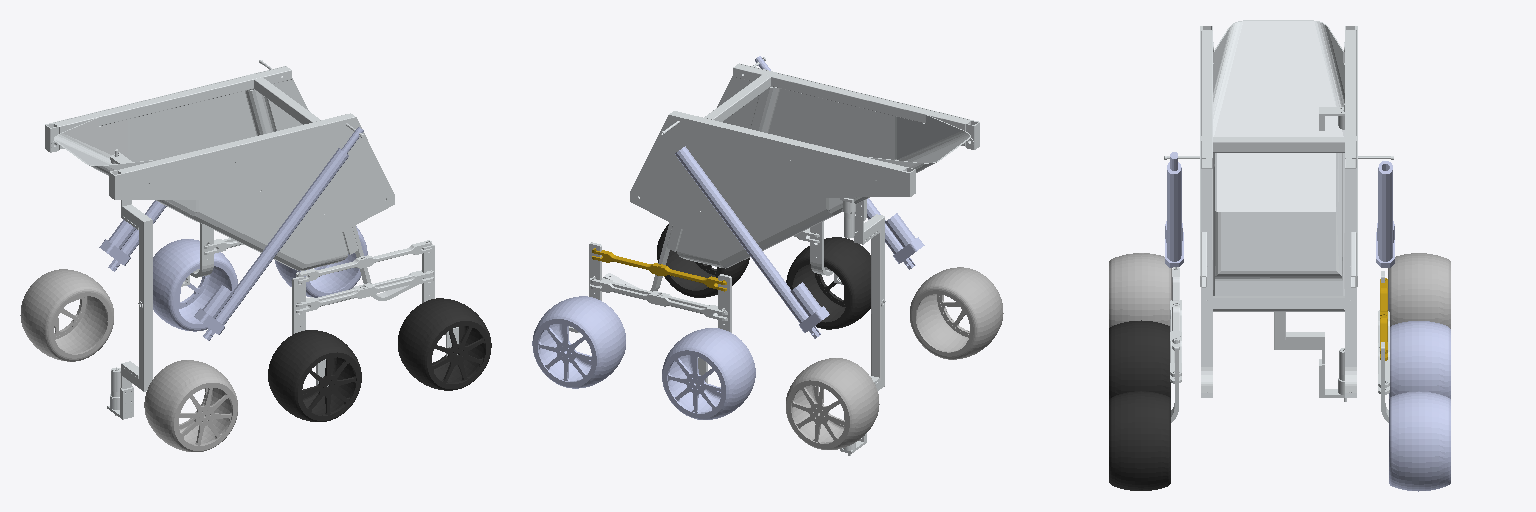
--- What the picture shows (computed from the rendered views, not written in the file) ---
3 views of the same robot in one strip: view 1: azimuth 30°, elevation 25°; view 2: azimuth 150°, elevation 25°; view 3: azimuth 270°, elevation 25° (orthographic).
Robot: surus_sim — 21 links, 20 joints (18 continuous, 2 prismatic); root link base_link; default pose: all joints at 0.
Visible links, largest first — view 1: Upper_link, br_wheel_link, bl_wheel_link, right_middle_wheel_link, right_front_wheel_link, left_mid_wheel_link, rear_rocker_link, right_bot_actuator_link, left_front_wheel_link, right_bot_link, left_bot_actuator_link, right_top_link (+3 smaller); view 2: Upper_link, left_front_wheel_link, br_wheel_link, left_mid_wheel_link, bl_wheel_link, right_middle_wheel_link, left_bot_actuator_link, rear_rocker_link, right_front_wheel_link, left_bot_link, right_bot_actuator_link, left_top_link (+3 smaller); view 3: Upper_link, right_front_wheel_link, left_front_wheel_link, left_mid_wheel_link, right_middle_wheel_link, bl_wheel_link, br_wheel_link, rear_rocker_link, left_bot_actuator_link, right_bot_actuator_link, right_top_link, left_top_link.
Boxes of the visible links, x1=… form: Upper_link: x1=45, y1=60, x2=416, y2=300; br_wheel_link: x1=144, y1=360, x2=237, y2=451; bl_wheel_link: x1=20, y1=269, x2=113, y2=361; right_middle_wheel_link: x1=268, y1=330, x2=361, y2=421; right_front_wheel_link: x1=398, y1=298, x2=491, y2=390; left_mid_wheel_link: x1=153, y1=239, x2=237, y2=331; rear_rocker_link: x1=107, y1=149, x2=152, y2=419; right_bot_actuator_link: x1=194, y1=148, x2=348, y2=340; left_front_wheel_link: x1=275, y1=226, x2=367, y2=297; right_bot_link: x1=296, y1=270, x2=433, y2=312; left_bot_actuator_link: x1=99, y1=200, x2=166, y2=271; right_top_link: x1=296, y1=240, x2=431, y2=283; Upper_link: x1=603, y1=57, x2=979, y2=291; left_front_wheel_link: x1=532, y1=296, x2=625, y2=388; br_wheel_link: x1=910, y1=267, x2=1003, y2=359; left_mid_wheel_link: x1=662, y1=328, x2=755, y2=419; bl_wheel_link: x1=786, y1=358, x2=879, y2=449; right_middle_wheel_link: x1=786, y1=237, x2=870, y2=329; left_bot_actuator_link: x1=675, y1=146, x2=829, y2=338; rear_rocker_link: x1=840, y1=198, x2=885, y2=455; right_front_wheel_link: x1=657, y1=224, x2=749, y2=297; left_bot_link: x1=590, y1=277, x2=727, y2=320; right_bot_actuator_link: x1=867, y1=198, x2=924, y2=269; left_top_link: x1=592, y1=248, x2=726, y2=291; Upper_link: x1=1164, y1=20, x2=1393, y2=397; right_front_wheel_link: x1=1109, y1=391, x2=1170, y2=490; left_front_wheel_link: x1=1389, y1=391, x2=1450, y2=491; left_mid_wheel_link: x1=1389, y1=321, x2=1450, y2=398; right_middle_wheel_link: x1=1109, y1=320, x2=1170, y2=398; bl_wheel_link: x1=1388, y1=253, x2=1450, y2=328; br_wheel_link: x1=1109, y1=253, x2=1171, y2=327; rear_rocker_link: x1=1274, y1=104, x2=1346, y2=401; left_bot_actuator_link: x1=1376, y1=161, x2=1394, y2=267; right_bot_actuator_link: x1=1165, y1=162, x2=1183, y2=267; right_top_link: x1=1172, y1=267, x2=1179, y2=350; left_top_link: x1=1380, y1=278, x2=1387, y2=360.
Size in the robot's own frame: 0.9663 by 0.728 by 0.7973 metres.
Meshes: 21 distinct files referenced, 19 mesh visuals loaded (19 binary STL); not drawn: 2 (reference not matched to a file when rendering).

robot.urdf — surus_sim:
<?xml version="1.0"?>
<robot
  name="surus_sim">
  <link
    name="base_link">
    <inertial>
      <origin
        xyz="-0.167968408500371 -1.01022281727703E-05 0.286322180976302"
        rpy="0 0 0" />
      <mass
        value="4.66238075193942" />
      <inertia
        ixx="0.231100945265056"
        ixy="5.93061079906879E-07"
        ixz="-0.0455736904611633"
        iyy="0.237209604995113"
        iyz="-3.48066671364885E-07"
        izz="0.292610789105543" />
    </inertial>
    <visual>
      <origin
        xyz="0 0 0"
        rpy="0 0 0" />
      <geometry>
        <mesh
          filename="package://rmc_simulation/surus_sim/meshes/base_link.STL" />
      </geometry>
      <material
        name="">
        <color
          rgba="0.898039215686275 0.917647058823529 0.929411764705882 1" />
      </material>
    </visual>
    <collision>
      <origin
        xyz="0 0 0"
        rpy="0 0 0" />
      <geometry>
        <mesh
          filename="package://rmc_simulation/surus_sim/meshes/base_link.STL" />
      </geometry>
    </collision>
  </link>

  <link
    name="rear_rocker_link">
    <inertial>
      <origin
        xyz="-0.0254567286858835 -0.000226880647806182 -0.0380072404992199"
        rpy="0 0 0" />
      <mass
        value="0.68717511332603" />
      <inertia
        ixx="0.0307554865892939"
        ixy="-3.18928127641556E-07"
        ixz="-1.47385715374947E-06"
        iyy="0.0014649924064013"
        iyz="1.57357851615367E-05"
        izz="0.0294033988087623" />
    </inertial>
    <visual>
      <origin
        xyz="0 0 0"
        rpy="0 0 0" />
      <geometry>
        <mesh
          filename="package://rmc_simulation/surus_sim/meshes/rear_rocker_link.STL" />
      </geometry>
      <material
        name="">
        <color
          rgba="0.898039215686275 0.917647058823529 0.929411764705882 1" />
      </material>
    </visual>
    <collision>
      <origin
        xyz="0 0 0"
        rpy="0 0 0" />
      <geometry>
        <mesh
          filename="package://rmc_simulation/surus_sim/meshes/rear_rocker_link.STL" />
      </geometry>
    </collision>
  </link>

  <joint
    name="rear_rocker_joint"
    type="continuous">
    <origin
      xyz="-0.313685317620023 0 0.138937085309467"
      rpy="0 0 0" />
    <parent
      link="base_link" />
    <child
      link="rear_rocker_link" />
    <axis
      xyz="-1 0 0" />
  </joint>

  <link
    name="br_wheel_link">
    <inertial>
      <origin
        xyz="0.000527219391497941 0.0465836041057263 0.00212512142011045"
        rpy="0 0 0" />
      <mass
        value="0.891962924275675" />
      <inertia
        ixx="0.00572229475704742"
        ixy="5.71551612585912E-06"
        ixz="4.24288015202721E-05"
        iyy="0.0072324205984595"
        iyz="2.30381601645526E-05"
        izz="0.005561798422836" />
    </inertial>
    <visual>
      <origin
        xyz="0 0 0"
        rpy="0 0 0" />
      <geometry>
        <mesh
          filename="package://rmc_simulation/surus_sim/meshes/br_wheel_link.STL" />
      </geometry>
      <material
        name="">
        <color
          rgba="0.752941176470588 0.752941176470588 0.752941176470588 1" />
      </material>
    </visual>
    <collision>
      <origin
        xyz="0 0 0"
        rpy="0 0 0" />
      <geometry>
        <mesh
          filename="package://rmc_simulation/surus_sim/meshes/br_wheel_link.STL" />
      </geometry>
    </collision>
  </link>

  <joint
    name="br_wheel_joint"
    type="continuous">
    <origin
      xyz="-0.0255249999999962 -0.3539625 -0.138938000000001"
      rpy="0 0 0" />
    <parent
      link="rear_rocker_link" />
    <child
      link="br_wheel_link" />
    <axis
      xyz="0 -1 0" />
  </joint>
  <link
    name="bl_wheel_link">
    <inertial>
      <origin
        xyz="-0.0013663781532188 -0.046583604105726 -0.00171088049827806"
        rpy="0 0 0" />
      <mass
        value="0.89196292427568" />
      <inertia
        ixx="0.00566211956879377"
        ixy="1.48127245134513E-05"
        ixz="8.85270977852464E-05"
        iyy="0.00723242059845954"
        iyz="1.85474294941701E-05"
        izz="0.00562197361108969" />
    </inertial>
    <visual>
      <origin
        xyz="0 0 0"
        rpy="0 0 0" />
      <geometry>
        <mesh
          filename="package://rmc_simulation/surus_sim/meshes/bl_wheel_link.STL" />
      </geometry>
      <material
        name="">
        <color
          rgba="0.752941176470588 0.752941176470588 0.752941176470588 1" />
      </material>
    </visual>
    <collision>
      <origin
        xyz="0 0 0"
        rpy="0 0 0" />
      <geometry>
        <mesh
          filename="package://rmc_simulation/surus_sim/meshes/bl_wheel_link.STL" />
      </geometry>
    </collision>
  </link>
  <joint
    name="bl_wheel_joint"
    type="continuous">
    <origin
      xyz="-0.0252750000000036 0.353962500000001 -0.138937999999999"
      rpy="0 0 0" />
    <parent
      link="rear_rocker_link" />
    <child
      link="bl_wheel_link" />
    <axis
      xyz="0 1 0" />
  </joint>
  <link
    name="right_top_link">
    <inertial>
      <origin
        xyz="-1.00374585811358E-05 0.0014186809751659 -1.39812716959398E-10"
        rpy="0 0 0" />
      <mass
        value="0.215121814589556" />
      <inertia
        ixx="1.16605680100676E-05"
        ixy="1.41330544482289E-08"
        ixz="-3.22033922245393E-12"
        iyy="0.00271450077204599"
        iyz="2.46913126600305E-13"
        izz="0.00271742916162387" />
    </inertial>
    <visual>
      <origin
        xyz="0 0 0"
        rpy="0 0 0" />
      <geometry>
        <mesh
          filename="package://rmc_simulation/surus_sim/meshes/right_top_link.STL" />
      </geometry>
      <material
        name="">
        <color
          rgba="0.898039215686275 0.917647058823529 0.929411764705882 1" />
      </material>
    </visual>
    <collision>
      <origin
        xyz="0 0 0"
        rpy="0 0 0" />
      <geometry>
        <mesh
          filename="package://rmc_simulation/surus_sim/meshes/right_top_link.STL" />
      </geometry>
    </collision>
  </link>
  <joint
    name="right_top_joint"
    type="continuous">
    <origin
      xyz="0.17843968237998 -0.220672499483469 0.215137085309466"
      rpy="0 0 0" />
    <parent
      link="base_link" />
    <child
      link="right_top_link" />
    <axis
      xyz="0 -1 0" />
  </joint>
  <link
    name="right_bot_link">
    <inertial>
      <origin
        xyz="-8.86457114971373E-05 0.00148572314361528 -1.17876307503817E-06"
        rpy="0 0 0" />
      <mass
        value="0.433325599142795" />
      <inertia
        ixx="3.73718768389881E-05"
        ixy="1.132986761294E-07"
        ixz="1.50093663263079E-07"
        iyy="0.00497497288067351"
        iyz="7.9131243900448E-09"
        izz="0.00497359760183689" />
    </inertial>
    <visual>
      <origin
        xyz="0 0 0"
        rpy="0 0 0" />
      <geometry>
        <mesh
          filename="package://rmc_simulation/surus_sim/meshes/right_bot_link.STL" />
      </geometry>
      <material
        name="">
        <color
          rgba="0.898039215686275 0.917647058823529 0.929411764705882 1" />
      </material>
    </visual>
    <collision>
      <origin
        xyz="0 0 0"
        rpy="0 0 0" />
      <geometry>
        <mesh
          filename="package://rmc_simulation/surus_sim/meshes/right_bot_link.STL" />
      </geometry>
    </collision>
  </link>
  <joint
    name="right_bot_joint"
    type="continuous">
    <origin
      xyz="0.17825738625093 -0.220672499483469 0.138937303366725"
      rpy="0 0 0" />
    <parent
      link="base_link" />
    <child
      link="right_bot_link" />
    <axis
      xyz="0 -1 0" />
  </joint>
  <link
    name="right_back_bot_vert_link">
    <inertial>
      <origin
        xyz="-0.000145010699346304 -0.0519052633260706 -0.0570630460658129"
        rpy="0 0 0" />
      <mass
        value="0.322840822636629" />
      <inertia
        ixx="0.0020384562697055"
        ixy="2.07715479736111E-06"
        ixz="3.21563880852225E-06"
        iyy="0.00130530656740014"
        iyz="0.000769741641717391"
        izz="0.00078820096138759" />
    </inertial>
    <visual>
      <origin
        xyz="0 0 0"
        rpy="0 0 0" />
      <geometry>
        <mesh
          filename="package://rmc_simulation/surus_sim/meshes/right_back_bot_vert_link.STL" />
      </geometry>
      <material
        name="">
        <color
          rgba="0.898039215686275 0.917647058823529 0.929411764705882 1" />
      </material>
    </visual>
    <collision>
      <origin
        xyz="0 0 0"
        rpy="0 0 0" />
      <geometry>
        <mesh
          filename="package://rmc_simulation/surus_sim/meshes/right_back_bot_vert_link.STL" />
      </geometry>
    </collision>
  </link>
  <joint
    name="right_back_bot_vert_joint"
    type="continuous">
    <origin
      xyz="-0.1778 0.00634999999999813 0"
      rpy="0 0 0" />
    <parent
      link="right_bot_link" />
    <child
      link="right_back_bot_vert_link" />
    <axis
      xyz="0 -1 0" />
  </joint>
  <link
    name="right_middle_wheel_link">
    <inertial>
      <origin
        xyz="7.49400541621981E-16 0.0425331356133741 5.55111512312578E-16"
        rpy="0 0 0" />
      <mass
        value="0.828510835025941" />
      <inertia
        ixx="0.00513964521552843"
        ixy="-7.37519107379425E-18"
        ixz="1.66160306211401E-18"
        iyy="0.00677496115011294"
        iyz="-5.16416774295603E-17"
        izz="0.00513964521552844" />
    </inertial>
    <visual>
      <origin
        xyz="0 0 0"
        rpy="0 0 0" />
      <geometry>
        <mesh
          filename="package://rmc_simulation/surus_sim/meshes/right_middle_wheel_link.STL" />
      </geometry>
      <material
        name="">
        <color
          rgba="0.250980392156863 0.250980392156863 0.250980392156863 1" />
      </material>
    </visual>
    <collision>
      <origin
        xyz="0 0 0"
        rpy="0 0 0" />
      <geometry>
        <mesh
          filename="package://rmc_simulation/surus_sim/meshes/right_middle_wheel_link.STL" />
      </geometry>
    </collision>
  </link>
  <joint
    name="right_middle_wheel_joint"
    type="continuous">
    <origin
      xyz="-0.000457386250926561 -0.14015 -0.138937303366726"
      rpy="0 0 0" />
    <parent
      link="right_back_bot_vert_link" />
    <child
      link="right_middle_wheel_link" />
    <axis
      xyz="0 -1 0" />
  </joint>
  <link
    name="right_front_bot_vert_link">
    <inertial>
      <origin
        xyz="-2.61292966718951E-05 -0.0519052633260705 -0.0570632243364484"
        rpy="0 0 0" />
      <mass
        value="0.32284082263663" />
      <inertia
        ixx="0.0020384642417106"
        ixy="4.73525349501971E-07"
        ixz="6.10923641183723E-07"
        iyy="0.00130530656740015"
        iyz="0.000769744298672994"
        izz="0.000788192989382494" />
    </inertial>
    <visual>
      <origin
        xyz="0 0 0"
        rpy="0 0 0" />
      <geometry>
        <mesh
          filename="package://rmc_simulation/surus_sim/meshes/right_front_bot_vert_link.STL" />
      </geometry>
      <material
        name="">
        <color
          rgba="0.898039215686275 0.917647058823529 0.929411764705882 1" />
      </material>
    </visual>
    <collision>
      <origin
        xyz="0 0 0"
        rpy="0 0 0" />
      <geometry>
        <mesh
          filename="package://rmc_simulation/surus_sim/meshes/right_front_bot_vert_link.STL" />
      </geometry>
    </collision>
  </link>
  <joint
    name="right_front_bot_vert_joint"
    type="continuous">
    <origin
      xyz="0.177958749596813 0.00633000103306119 0"
      rpy="0 0 0" />
    <parent
      link="right_bot_link" />
    <child
      link="right_front_bot_vert_link" />
    <axis
      xyz="0 -1 0" />
  </joint>
  <link
    name="right_front_wheel_link">
    <inertial>
      <origin
        xyz="1.22124532708767E-15 0.0425331356133744 -4.44089209850063E-16"
        rpy="0 0 0" />
      <mass
        value="0.828510835025938" />
      <inertia
        ixx="0.0051396452155284"
        ixy="-3.55090140916921E-17"
        ixz="-1.1163252640243E-18"
        iyy="0.00677496115011288"
        iyz="-2.97655155316345E-17"
        izz="0.00513964521552841" />
    </inertial>
    <visual>
      <origin
        xyz="0 0 0"
        rpy="0 0 0" />
      <geometry>
        <mesh
          filename="package://rmc_simulation/surus_sim/meshes/right_front_wheel_link.STL" />
      </geometry>
      <material
        name="">
        <color
          rgba="0.250980392156863 0.250980392156863 0.250980392156863 1" />
      </material>
    </visual>
    <collision>
      <origin
        xyz="0 0 0"
        rpy="0 0 0" />
      <geometry>
        <mesh
          filename="package://rmc_simulation/surus_sim/meshes/right_front_wheel_link.STL" />
      </geometry>
    </collision>
  </link>
  <joint
    name="right_front_wheel_joint"
    type="continuous">
    <origin
      xyz="-0.000167933171141499 -0.14015 -0.138937954740417"
      rpy="0 0 0" />
    <parent
      link="right_front_bot_vert_link" />
    <child
      link="right_front_wheel_link" />
    <axis
      xyz="0 -1 0" />
  </joint>
  <link
    name="left_top_link">
    <inertial>
      <origin
        xyz="9.83237389812208E-06 -0.00158430874288751 -1.3695622413934E-10"
        rpy="0 0 0" />
      <mass
        value="0.21960884786979" />
      <inertia
        ixx="1.20445732167382E-05"
        ixy="1.4490690562116E-08"
        ixz="3.22033343129723E-12"
        iyy="0.00271458558267607"
        iyz="-2.51894570355767E-13"
        izz="0.00271781316727338" />
    </inertial>
    <visual>
      <origin
        xyz="0 0 0"
        rpy="0 0 0" />
      <geometry>
        <mesh
          filename="package://rmc_simulation/surus_sim/meshes/left_top_link.STL" />
      </geometry>
      <material
        name="">
        <color
          rgba="0.827450980392157 0.666666666666667 0.129411764705882 1" />
      </material>
    </visual>
    <collision>
      <origin
        xyz="0 0 0"
        rpy="0 0 0" />
      <geometry>
        <mesh
          filename="package://rmc_simulation/surus_sim/meshes/left_top_link.STL" />
      </geometry>
    </collision>
  </link>
  <joint
    name="left_top_joint"
    type="continuous">
    <origin
      xyz="0.178439682379975 0.220652500516531 0.215137085309467"
      rpy="0 0 0" />
    <parent
      link="base_link" />
    <child
      link="left_top_link" />
    <axis
      xyz="0 1 0" />
  </joint>
  <link
    name="left_bot_link">
    <inertial>
      <origin
        xyz="9.00499460032567E-05 -0.00161427182391949 -1.19743583160137E-06"
        rpy="0 0 0" />
      <mass
        value="0.426568340691013" />
      <inertia
        ixx="3.6712090458373E-05"
        ixy="1.18236546662886E-07"
        ixz="-1.50092945997371E-07"
        iyy="0.00497471919546452"
        iyz="-7.97878554145388E-09"
        izz="0.00497293776152572" />
    </inertial>
    <visual>
      <origin
        xyz="0 0 0"
        rpy="0 0 0" />
      <geometry>
        <mesh
          filename="package://rmc_simulation/surus_sim/meshes/left_bot_link.STL" />
      </geometry>
      <material
        name="">
        <color
          rgba="0.898039215686275 0.917647058823529 0.929411764705882 1" />
      </material>
    </visual>
    <collision>
      <origin
        xyz="0 0 0"
        rpy="0 0 0" />
      <geometry>
        <mesh
          filename="package://rmc_simulation/surus_sim/meshes/left_bot_link.STL" />
      </geometry>
    </collision>
  </link>
  <joint
    name="left_bot_joint"
    type="continuous">
    <origin
      xyz="0.178621978509024 0.220652500516531 0.138937303366726"
      rpy="0 0 0" />
    <parent
      link="base_link" />
    <child
      link="left_bot_link" />
    <axis
      xyz="0 1 0" />
  </joint>
  <link
    name="left_back_bot_vert_link">
    <inertial>
      <origin
        xyz="-0.000132620300141217 0.0424002622930117 -0.0570634387556546"
        rpy="0 0 0" />
      <mass
        value="0.322840822636628" />
      <inertia
        ixx="0.00203846424171059"
        ixy="4.735253495041E-07"
        ixz="-6.10923641181504E-07"
        iyy="0.00130530656739995"
        iyz="-0.000769744298672994"
        izz="0.000788192989382325" />
    </inertial>
    <visual>
      <origin
        xyz="0 0 0"
        rpy="0 0 0" />
      <geometry>
        <mesh
          filename="package://rmc_simulation/surus_sim/meshes/left_back_bot_vert_link.STL" />
      </geometry>
      <material
        name="">
        <color
          rgba="0.898039215686275 0.917647058823529 0.929411764705882 1" />
      </material>
    </visual>
    <collision>
      <origin
        xyz="0 0 0"
        rpy="0 0 0" />
      <geometry>
        <mesh
          filename="package://rmc_simulation/surus_sim/meshes/left_back_bot_vert_link.STL" />
      </geometry>
    </collision>
  </link>
  <joint
    name="left_back_bot_vert_joint"
    type="continuous">
    <origin
      xyz="-0.1778 0.00317499999999793 0"
      rpy="0 0 0" />
    <parent
      link="left_bot_link" />
    <child
      link="left_back_bot_vert_link" />
    <axis
      xyz="0 -1 0" />
  </joint>
  <link
    name="left_mid_wheel_link">
    <inertial>
      <origin
        xyz="-4.16333634234434E-16 -0.0425331356133745 1.11022302462516E-16"
        rpy="0 0 0" />
      <mass
        value="0.828510835025941" />
      <inertia
        ixx="0.00513964521552846"
        ixy="-1.08087817206101E-18"
        ixz="-1.58046775927336E-18"
        iyy="0.00677496115011297"
        iyz="4.25447241864089E-17"
        izz="0.00513964521552847" />
    </inertial>
    <visual>
      <origin
        xyz="0 0 0"
        rpy="0 0 0" />
      <geometry>
        <mesh
          filename="package://rmc_simulation/surus_sim/meshes/left_mid_wheel_link.STL" />
      </geometry>
      <material
        name="">
        <color
          rgba="0.792156862745098 0.819607843137255 0.933333333333333 1" />
      </material>
    </visual>
    <collision>
      <origin
        xyz="0 0 0"
        rpy="0 0 0" />
      <geometry>
        <mesh
          filename="package://rmc_simulation/surus_sim/meshes/left_mid_wheel_link.STL" />
      </geometry>
    </collision>
  </link>
  <joint
    name="left_mid_wheel_joint"
    type="continuous">
    <origin
      xyz="0 0.130644998966941 -0.138938169159622"
      rpy="0 0 0" />
    <parent
      link="left_back_bot_vert_link" />
    <child
      link="left_mid_wheel_link" />
    <axis
      xyz="0 1 0" />
  </joint>
  <link
    name="left_front_bot_vert_link">
    <inertial>
      <origin
        xyz="8.0267657486699E-05 0.0225819781932506 -0.0335518808295552"
        rpy="0 0 0" />
      <mass
        value="0.224203755199739" />
      <inertia
        ixx="0.00105906662983956"
        ixy="7.11787141051047E-07"
        ixz="-1.88804662696712E-06"
        iyy="0.000827713424439474"
        iyz="-0.000297527024960577"
        izz="0.000269867656623208" />
    </inertial>
    <visual>
      <origin
        xyz="0 0 0"
        rpy="0 0 0" />
      <geometry>
        <mesh
          filename="package://rmc_simulation/surus_sim/meshes/left_front_bot_vert_link.STL" />
      </geometry>
      <material
        name="">
        <color
          rgba="0.898039215686275 0.917647058823529 0.929411764705882 1" />
      </material>
    </visual>
    <collision>
      <origin
        xyz="0 0 0"
        rpy="0 0 0" />
      <geometry>
        <mesh
          filename="package://rmc_simulation/surus_sim/meshes/left_front_bot_vert_link.STL" />
      </geometry>
    </collision>
  </link>
  <joint
    name="left_front_bot_vert_joint"
    type="continuous">
    <origin
      xyz="0.1778 -0.00158749999999819 0"
      rpy="0 0 0" />
    <parent
      link="left_bot_link" />
    <child
      link="left_front_bot_vert_link" />
    <axis
      xyz="0 -1 0" />
  </joint>
  <link
    name="left_front_wheel_link">
    <inertial>
      <origin
        xyz="-2.66453525910038E-15 -0.0425331356133765 2.22044604925031E-16"
        rpy="0 0 0" />
      <mass
        value="0.828510835025874" />
      <inertia
        ixx="0.00513964521552822"
        ixy="-5.52186144140618E-17"
        ixz="-1.53793891431021E-18"
        iyy="0.00677496115011262"
        iyz="3.9717477019694E-17"
        izz="0.00513964521552823" />
    </inertial>
    <visual>
      <origin
        xyz="0 0 0"
        rpy="0 0 0" />
      <geometry>
        <mesh
          filename="package://rmc_simulation/surus_sim/meshes/left_front_wheel_link.STL" />
      </geometry>
      <material
        name="">
        <color
          rgba="0.792156862745098 0.819607843137255 0.933333333333333 1" />
      </material>
    </visual>
    <collision>
      <origin
        xyz="0 0 0"
        rpy="0 0 0" />
      <geometry>
        <mesh
          filename="package://rmc_simulation/surus_sim/meshes/left_front_wheel_link.STL" />
      </geometry>
    </collision>
  </link>
  <joint
    name="left_front_wheel_joint"
    type="continuous">
    <origin
      xyz="0.000457386250926506 0.135387500000001 -0.138937303366725"
      rpy="0 0 0" />
    <parent
      link="left_front_bot_vert_link" />
    <child
      link="left_front_wheel_link" />
    <axis
      xyz="0 1 0" />
  </joint>
  <link
    name="Upper_link">
    <inertial>
      <origin
        xyz="0.434119356164502 -0.00204589137804922 -0.128419613062416"
        rpy="0 0 0" />
      <mass
        value="6.26524835038105" />
      <inertia
        ixx="0.236893472713095"
        ixy="0.000377252358288241"
        ixz="-0.102109049165719"
        iyy="0.38711156676544"
        iyz="0.000225772453978191"
        izz="0.405302722204742" />
    </inertial>
    <visual>
      <origin
        xyz="0 0 0"
        rpy="0 0 0" />
      <geometry>
        <mesh
          filename="package://rmc_simulation/surus_sim/meshes/Upper_link.STL" />
      </geometry>
      <material
        name="">
        <color
          rgba="0.898039215686275 0.917647058823529 0.929411764705882 1" />
      </material>
    </visual>
    <collision>
      <origin
        xyz="0 0 0"
        rpy="0 0 0" />
      <geometry>
        <mesh
          filename="package://rmc_simulation/surus_sim/meshes/Upper_link.STL" />
      </geometry>
    </collision>
  </link>
  <joint
    name="Upper_joint"
    type="continuous">
    <origin
      xyz="-0.464434317620022 0 0.541527085309466"
      rpy="0 0 0" />
    <parent
      link="base_link" />
    <child
      link="Upper_link" />
    <axis
      xyz="0 -1 0" />
  </joint>
  <link
    name="left_top_actuator_link">
    <inertial>
      <origin
        xyz="-0.255751841564075 -0.0103504991709231 1.43316414291661E-09"
        rpy="0 0 0" />
      <mass
        value="0.132261419151138" />
      <inertia
        ixx="5.36518568633869E-06"
        ixy="2.26129956638327E-11"
        ixz="4.07087453727607E-11"
        iyy="0.00312813304545607"
        iyz="3.59322886820783E-13"
        izz="0.00312812027124179" />
    </inertial>
    <visual>
      <origin
        xyz="0 0 0"
        rpy="0 0 0" />
      <geometry>
        <mesh
          filename="package://rmc_simulation/surus_sim/meshes/left_top_actuator_link.STL" />
      </geometry>
      <material
        name="">
        <color
          rgba="0.792156862745098 0.819607843137255 0.933333333333333 1" />
      </material>
    </visual>
    <collision>
      <origin
        xyz="0 0 0"
        rpy="0 0 0" />
      <geometry>
        <mesh
          filename="package://rmc_simulation/surus_sim/meshes/left_top_actuator_link.STL" />
      </geometry>
    </collision>
  </link>
  <joint
    name="left_top_actuator_joint"
    type="continuous">
    <origin
      xyz="0.624074367318843 0.235140500000006 0.031384156630293"
      rpy="-4.7603420685916E-15 -0.815498821843055 6.53832397580358E-15" />
    <parent
      link="Upper_link" />
    <child
      link="left_top_actuator_link" />
    <axis
      xyz="0 1 0" />
  </joint>
  <link
    name="left_bot_actuator_link">
    <inertial>
      <origin
        xyz="0.125725212385351 -1.11022302462516E-16 0.0156626480746445"
        rpy="0 0 0" />
      <mass
        value="0.310659429014436" />
      <inertia
        ixx="0.000171135502535455"
        ixy="4.58714099715675E-18"
        ixz="-0.000505501347194257"
        iyy="0.00791441773207385"
        iyz="-1.03973214776266E-18"
        izz="0.00780786520654232" />
    </inertial>
    <visual>
      <origin
        xyz="0 0 0"
        rpy="0 0 0" />
      <geometry>
        <mesh
          filename="package://rmc_simulation/surus_sim/meshes/left_bot_actuator_link.STL" />
      </geometry>
      <material
        name="">
        <color
          rgba="0.792156862745098 0.819607843137255 0.933333333333333 1" />
      </material>
    </visual>
    <collision>
      <origin
        xyz="0 0 0"
        rpy="0 0 0" />
      <geometry>
        <mesh
          filename="package://rmc_simulation/surus_sim/meshes/left_bot_actuator_link.STL" />
      </geometry>
    </collision>
  </link>

  <joint
    name="left_mid_actuator_joint"
    type="prismatic">
    <origin
      xyz="-0.5588 -0.010351 0"
      rpy="0 0 -3.9443E-31" />
    <parent
      link="left_top_actuator_link" />
    <child
      link="left_bot_actuator_link" />
    <axis
      xyz="-1 0 0" />
    <!-- <limit effort="100.0" lower="0" upper="0.4572" velocity="0.1"/> -->
    <limit effort="100.0" lower="0" upper="1.4" velocity="0.2"/>
  </joint>

    <transmission name="tran1">
      <type>transmission_interface/SimpleTransmission</type>
      <joint name="left_mid_actuator_joint">
        <hardwareInterface>EffortJointInterface</hardwareInterface>
      </joint>
      <actuator name="motor1">
        <hardwareInterface>EffortJointInterface</hardwareInterface>
        <mechanicalReduction>1</mechanicalReduction>
      </actuator>
    </transmission>

    <transmission name="tran1">
      <type>transmission_interface/SimpleTransmission</type>
      <joint name="right_mid_actuator_joint">
        <hardwareInterface>EffortJointInterface</hardwareInterface>
      </joint>
      <actuator name="motor1">
        <hardwareInterface>EffortJointInterface</hardwareInterface>
        <mechanicalReduction>1</mechanicalReduction>
      </actuator>
    </transmission>

  <link
    name="right_top_actuator_link">
    <inertial>
      <origin
        xyz="-0.255751841564079 0.014846300829077 1.43316558620654E-09"
        rpy="0 0 0" />
      <mass
        value="0.132261419151135" />
      <inertia
        ixx="5.36518568633932E-06"
        ixy="2.26129932804948E-11"
        ixz="4.07087451203449E-11"
        iyy="0.00312813304545595"
        iyz="3.59322901485305E-13"
        izz="0.00312812027124166" />
    </inertial>
    <visual>
      <origin
        xyz="0 0 0"
        rpy="0 0 0" />
      <geometry>
        <mesh
          filename="package://rmc_simulation/surus_sim/meshes/right_top_actuator_link.STL" />
      </geometry>
      <material
        name="">
        <color
          rgba="0.792156862745098 0.819607843137255 0.933333333333333 1" />
      </material>
    </visual>
    <collision>
      <origin
        xyz="0 0 0"
        rpy="0 0 0" />
      <geometry>
        <mesh
          filename="package://rmc_simulation/surus_sim/meshes/right_top_actuator_link.STL" />
      </geometry>
    </collision>
  </link>
  <joint
    name="right_top_actuator_joint"
    type="continuous">
    <origin
      xyz="0.62407 -0.23964 0.031384"
      rpy="-4.9262E-15 -0.8155 6.7662E-15" />
    <parent
      link="Upper_link" />
    <child
      link="right_top_actuator_link" />
    <axis
      xyz="0 -1 0" />
  </joint>
  <link
    name="right_bot_actuator_link">
    <inertial>
      <origin
        xyz="0.125725212385351 -2.22044604925031E-16 0.0156626480746439"
        rpy="0 0 0" />
      <mass
        value="0.310659429014436" />
      <inertia
        ixx="0.000171135502535453"
        ixy="4.92662642471664E-18"
        ixz="-0.000505501347194262"
        iyy="0.00791441773207384"
        iyz="-1.08262903963028E-18"
        izz="0.00780786520654231" />
    </inertial>
    <visual>
      <origin
        xyz="0 0 0"
        rpy="0 0 0" />
      <geometry>
        <mesh
          filename="package://rmc_simulation/surus_sim/meshes/right_bot_actuator_link.STL" />
      </geometry>
      <material
        name="">
        <color
          rgba="0.792156862745098 0.819607843137255 0.933333333333333 1" />
      </material>
    </visual>
    <collision>
      <origin
        xyz="0 0 0"
        rpy="0 0 0" />
      <geometry>
        <mesh
          filename="package://rmc_simulation/surus_sim/meshes/right_bot_actuator_link.STL" />
      </geometry>
    </collision>
  </link>
  <joint
    name="right_mid_actuator_joint"
    type="prismatic">
    <origin
      xyz="-0.5588 0.0148462999999999 0"
      rpy="3.94430452610506E-31 0 3.94430452610506E-31" />
    <parent
      link="right_top_actuator_link" />
    <child
      link="right_bot_actuator_link" />
    <axis
      xyz="-1 0 0" />
    <!-- <limit effort="100.0" lower="0" upper="0.4572" velocity="0.1"/> -->
    <limit effort="100.0" lower="0" upper="1.4" velocity="0.2"/>
  </joint>
</robot>
